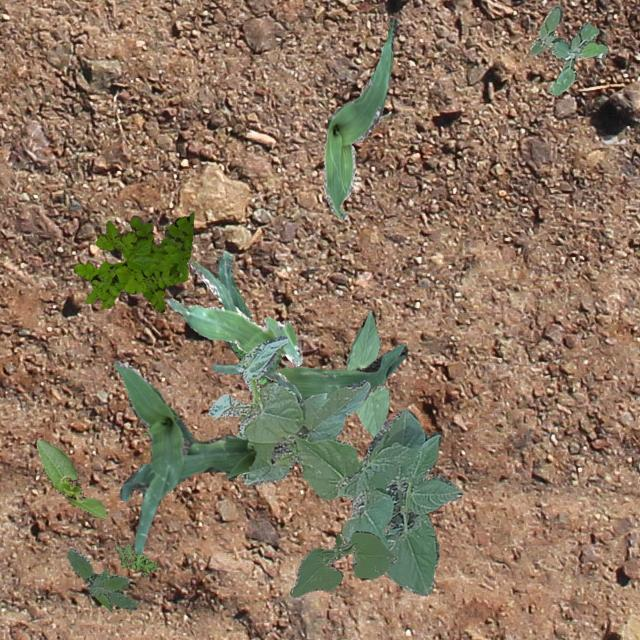crop: (206, 334, 462, 594), (216, 252, 407, 398), (112, 360, 255, 554), (164, 258, 300, 398), (322, 18, 397, 220), (288, 530, 396, 596), (34, 438, 106, 518), (344, 310, 388, 436)
weed: (72, 211, 192, 311), (528, 3, 606, 94), (66, 548, 136, 610), (230, 342, 272, 382), (116, 544, 158, 576)
